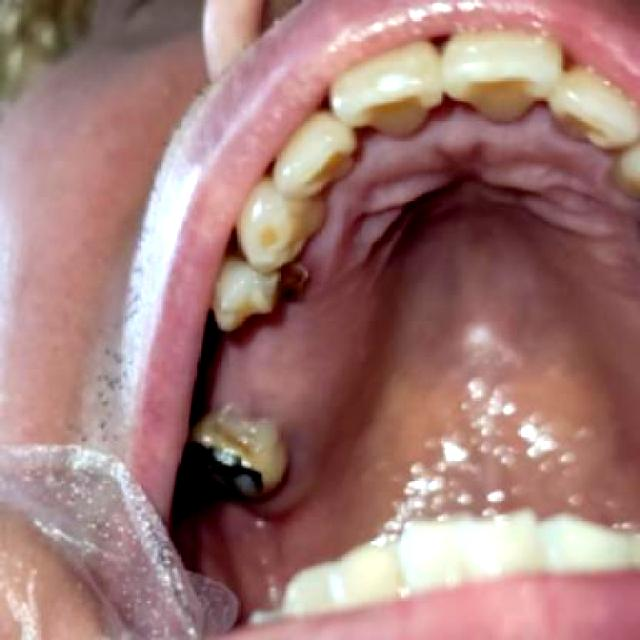Plaque: (258, 258, 325, 316)
